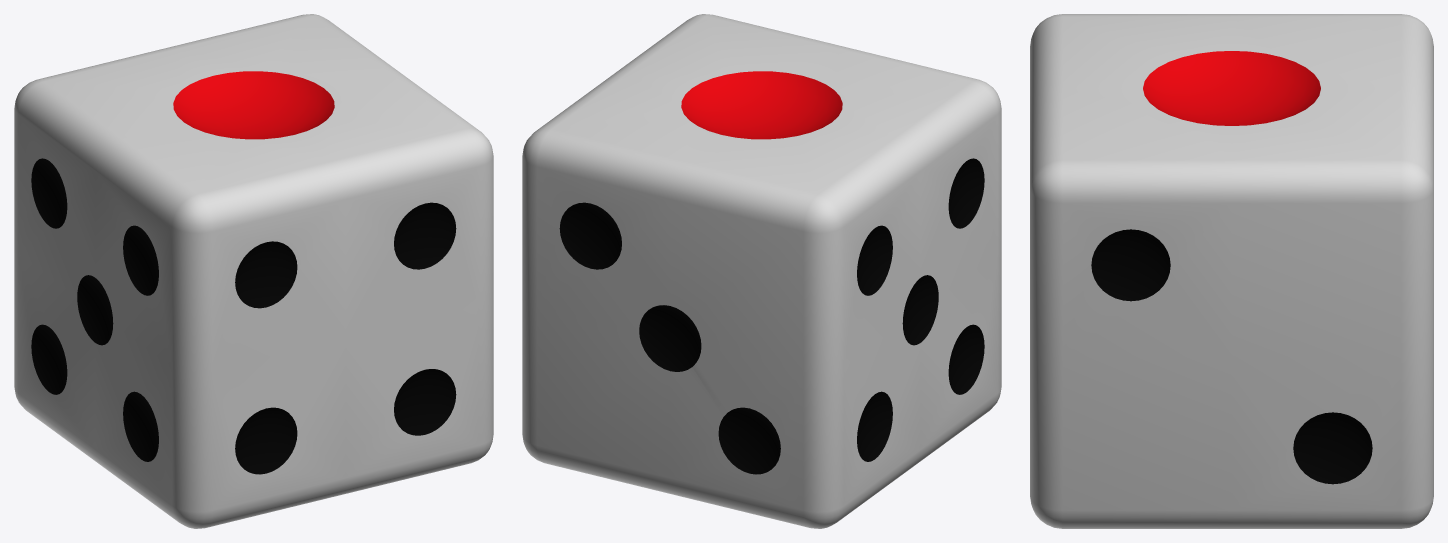
Rendered from Dice.glb.
3 views of the same model, side by side, from view 1: azimuth 30°, elevation 25°; view 2: azimuth 150°, elevation 25°; view 3: azimuth 270°, elevation 25° (orthographic). The views are drawn at different scales.
Parts seen in each view (by area): view 1: dice; view 2: dice; view 3: dice.
Part boxes in pixels (bbox=[...]): dice: bbox=[14, 14, 493, 528]; dice: bbox=[522, 14, 1001, 528]; dice: bbox=[1030, 14, 1433, 528].
Size of the model in its own units: 0.1 by 0.1 by 0.1.
